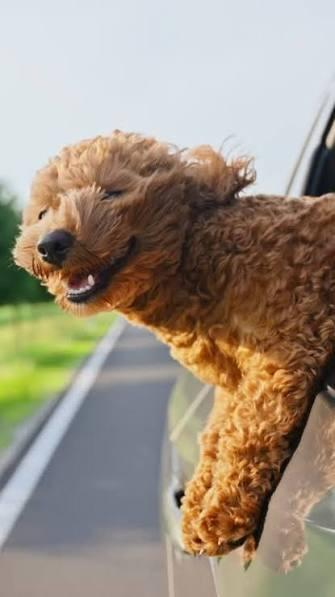adult_dog: (11, 131, 335, 555)
